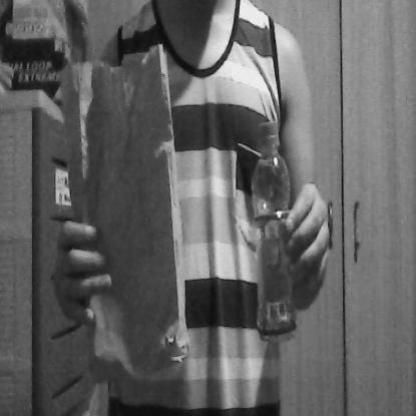Plastic Bottle: (249, 104, 303, 348)
